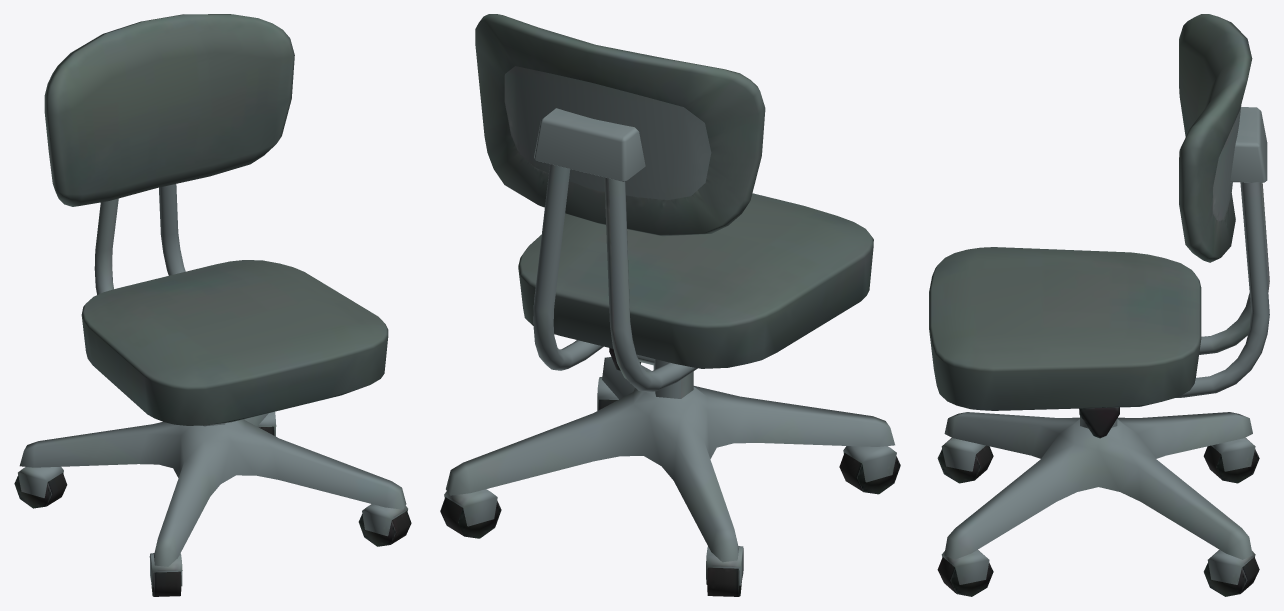
3 views of the same model, side by side, from view 1: azimuth 30°, elevation 25°; view 2: azimuth 150°, elevation 25°; view 3: azimuth 270°, elevation 25° (orthographic). The views are drawn at different scales.
Size of the model in its own units: 6.22 by 10.42 by 6.71.
Materials: 1 (1 with a texture image).
